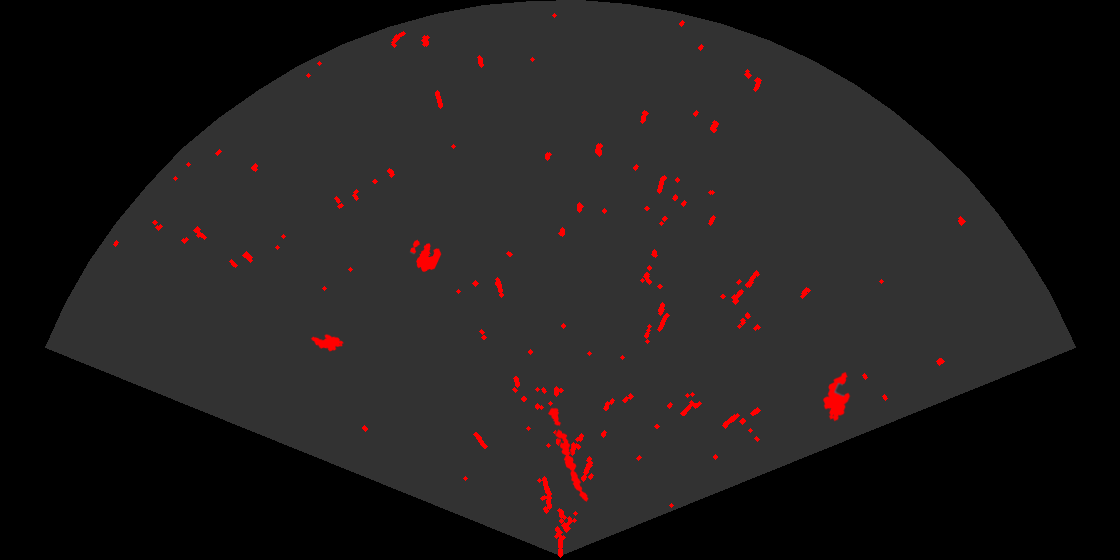AUV: (821, 370, 852, 423), (309, 332, 345, 353)
ball: (409, 238, 443, 274)
chain: (546, 405, 590, 503)
